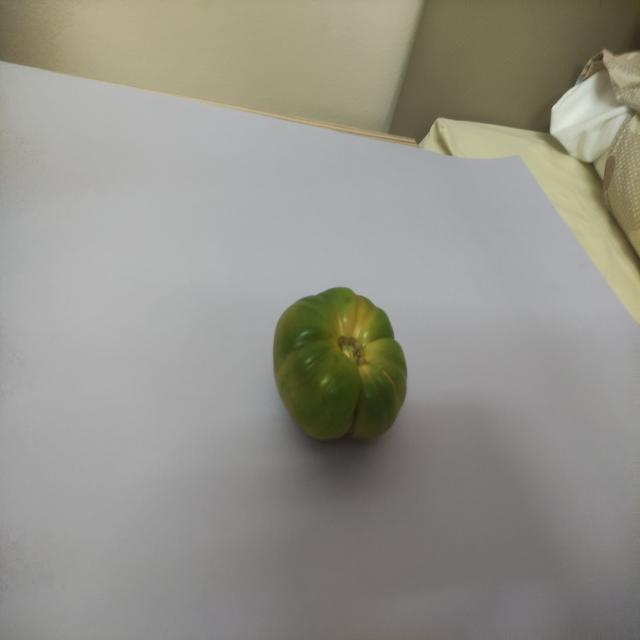yesil: (272, 271, 412, 452)
